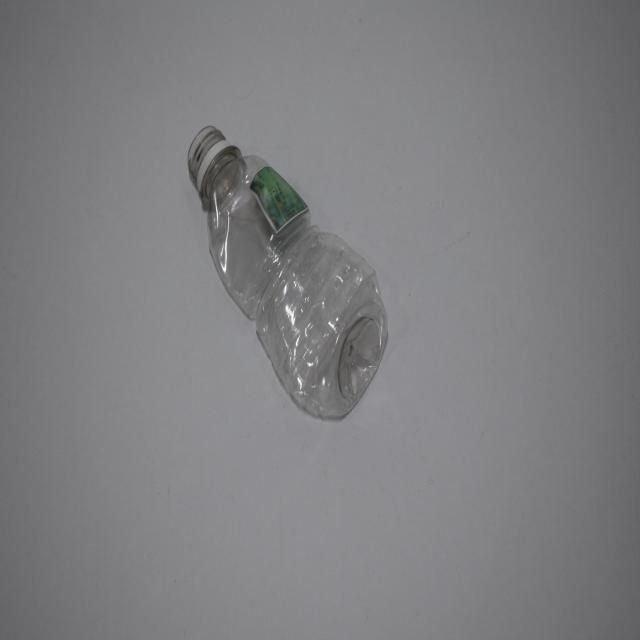bottle: (180, 123, 386, 424)
